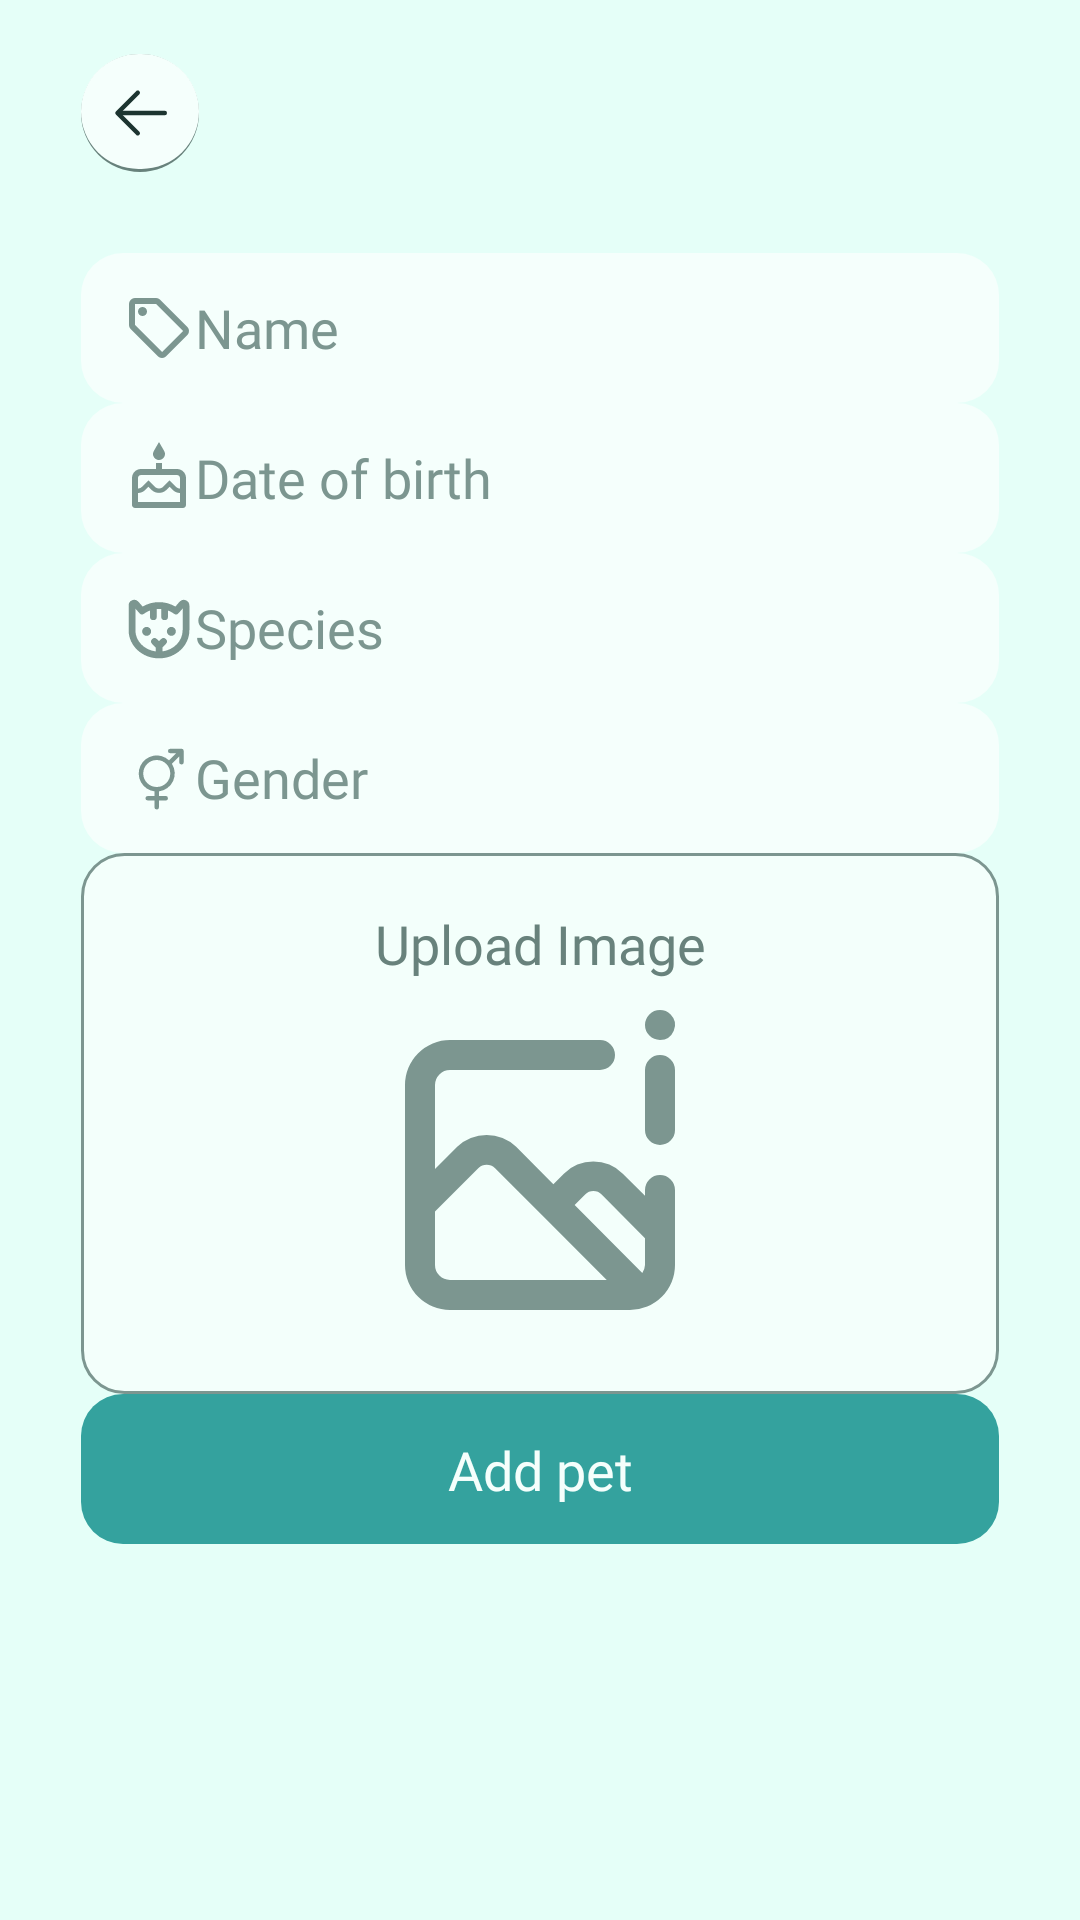

Where icons sit on this 1080px×1920px app screen, as {"x1": x1, "y1": y1, "x2": x2, "y2": y2}:
back: {"x1": 115, "y1": 90, "x2": 167, "y2": 136}
cake: {"x1": 132, "y1": 442, "x2": 186, "y2": 508}
cat: {"x1": 128, "y1": 599, "x2": 190, "y2": 659}
tag: {"x1": 129, "y1": 298, "x2": 189, "y2": 358}
